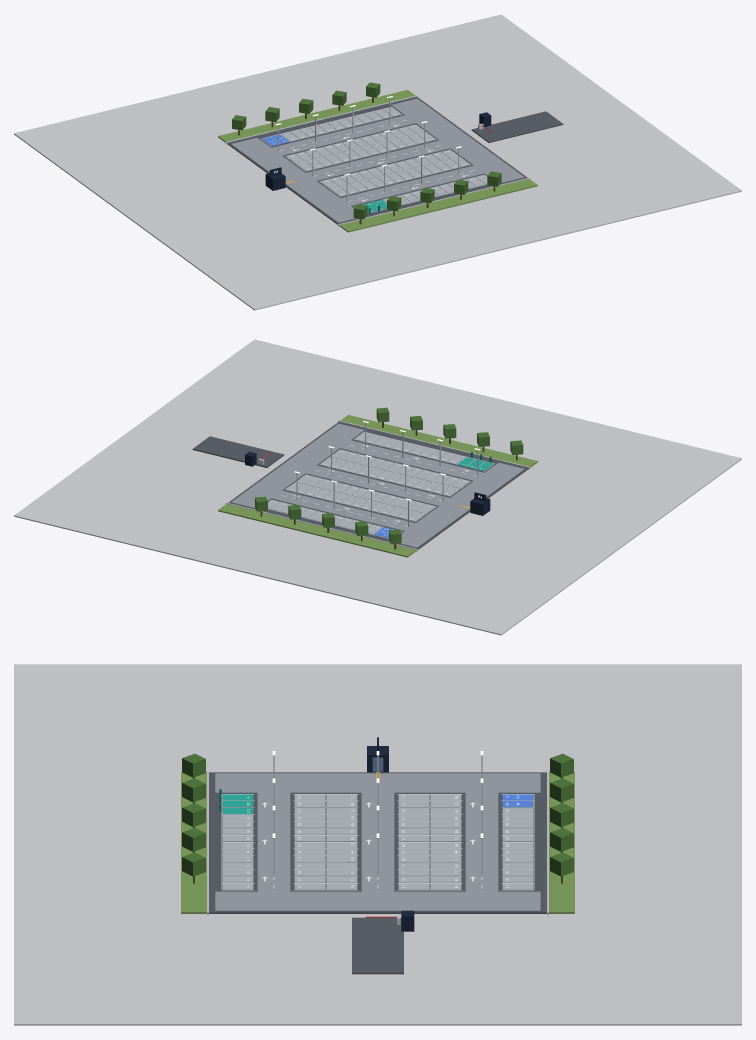
Rendered from parking_p4.glb.
3 renders of one model, top to bottom at view 1: azimuth 30°, elevation 25°; view 2: azimuth 150°, elevation 25°; view 3: azimuth 270°, elevation 25°, orthographic. The views are drawn at different scales.
Visible parts, largest first — view 1: P4_site_sol, P4_N0_voie, P4_N0_asphalte, P4_site_herbe, P4_N0_peinture, P4_site_arbre, P4_site_asphalte, P4_site_beton, P4_site_poteau; view 2: P4_site_sol, P4_N0_voie, P4_N0_asphalte, P4_site_herbe, P4_N0_peinture, P4_site_arbre, P4_site_asphalte, P4_site_beton, P4_site_poteau; view 3: P4_site_sol, P4_N0_voie, P4_N0_asphalte, P4_site_arbre, P4_N0_peinture, P4_site_herbe, P4_site_asphalte, P4_site_noyau, P4_site_poteau, P4_site_beton.
Part boxes in pixels (left/top/right/bottom): P4_site_sol: left=14, top=14, right=741, bottom=310; P4_N0_voie: left=231, top=98, right=524, bottom=222; P4_N0_asphalte: left=227, top=96, right=527, bottom=224; P4_site_herbe: left=218, top=90, right=537, bottom=232; P4_N0_peinture: left=261, top=107, right=486, bottom=213; P4_site_arbre: left=232, top=82, right=501, bottom=219; P4_site_asphalte: left=471, top=111, right=563, bottom=142; P4_site_beton: left=225, top=95, right=530, bottom=226; P4_site_poteau: left=278, top=97, right=459, bottom=201; P4_site_sol: left=14, top=339, right=741, bottom=635; P4_N0_voie: left=231, top=423, right=524, bottom=547; P4_N0_asphalte: left=228, top=421, right=528, bottom=549; P4_site_herbe: left=218, top=415, right=537, bottom=557; P4_N0_peinture: left=268, top=432, right=494, bottom=538; P4_site_arbre: left=255, top=407, right=523, bottom=543; P4_site_asphalte: left=192, top=436, right=284, bottom=467; P4_site_beton: left=225, top=420, right=530, bottom=551; P4_site_poteau: left=296, top=422, right=477, bottom=526; P4_site_sol: left=14, top=664, right=741, bottom=1025; P4_N0_voie: left=215, top=773, right=540, bottom=910; P4_N0_asphalte: left=209, top=772, right=546, bottom=913; P4_site_arbre: left=182, top=753, right=573, bottom=876; P4_N0_peinture: left=221, top=794, right=534, bottom=890; P4_site_herbe: left=181, top=772, right=574, bottom=913; P4_site_asphalte: left=352, top=917, right=403, bottom=974; P4_site_noyau: left=367, top=746, right=414, bottom=931; P4_site_poteau: left=273, top=755, right=482, bottom=876; P4_site_beton: left=207, top=770, right=548, bottom=924.
Size of the model in its own units: 131 by 7.64 by 112.
